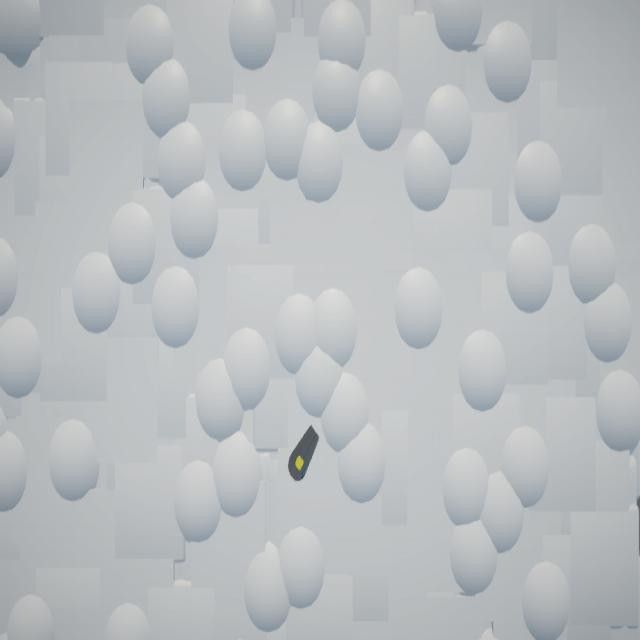handle_folk: (289, 425, 321, 483)
